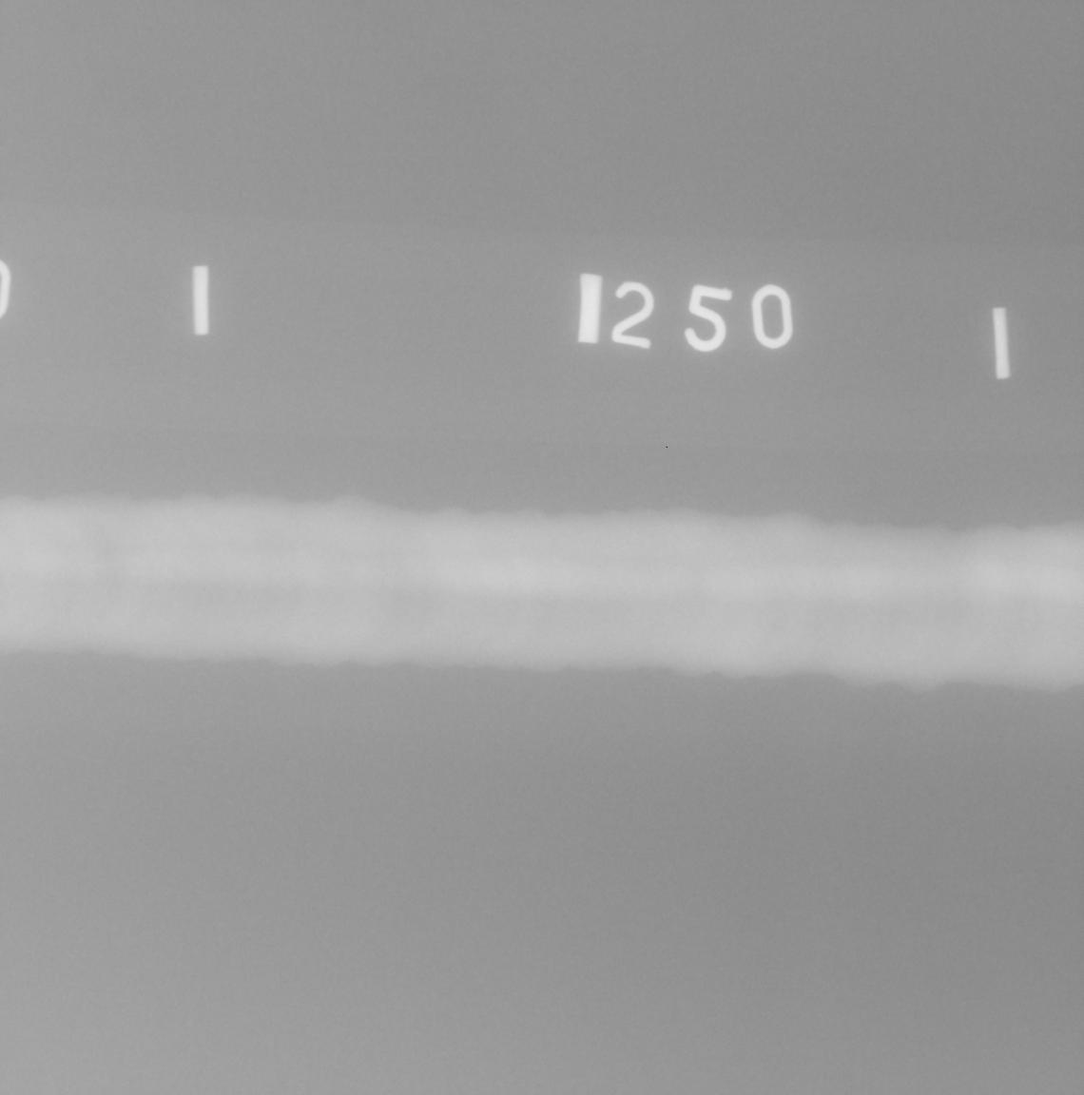Pore/Porosity: (813, 583, 816, 586)
